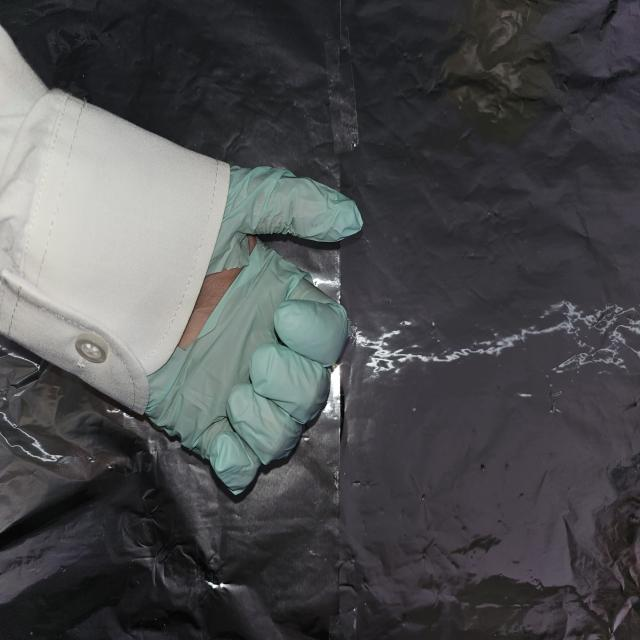gloves_damaged: (137, 165, 366, 498)
